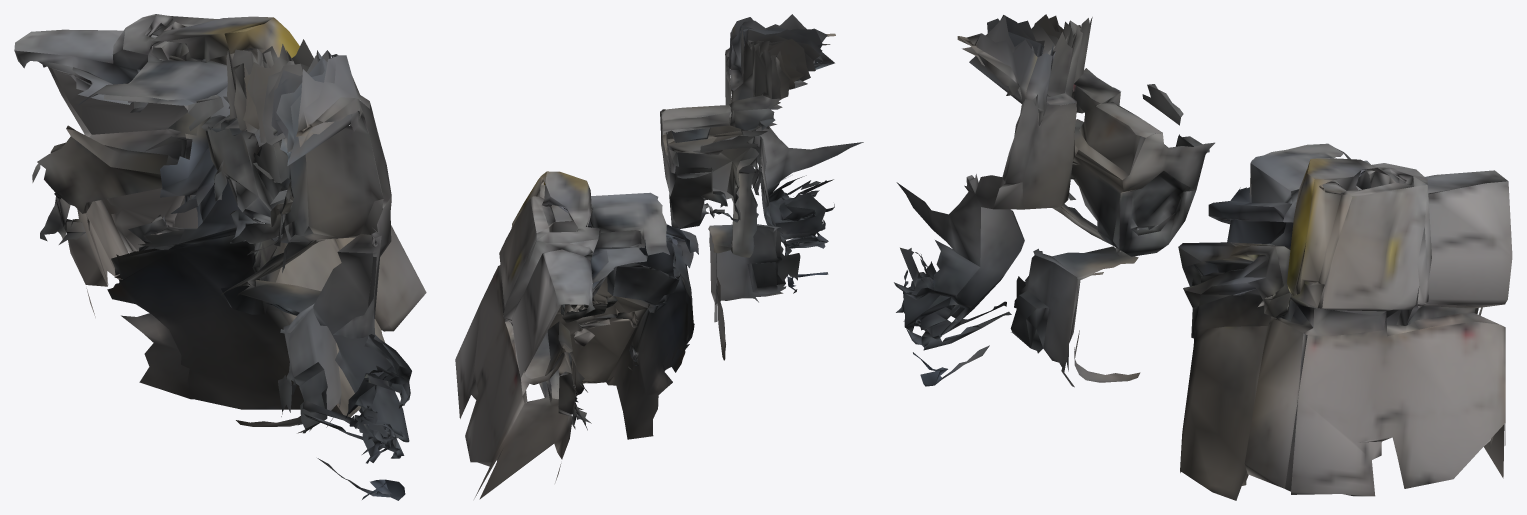
File: tankblock_arm_right_001_upper.glb
3 views of the same model, side by side, from view 1: azimuth 30°, elevation 25°; view 2: azimuth 150°, elevation 25°; view 3: azimuth 270°, elevation 25° (orthographic). The views are drawn at different scales.
Parts seen in each view (by area): view 1: W_arm_left_upper; view 2: W_arm_left_upper; view 3: W_arm_left_upper.
Part boxes in pixels (<box>): W_arm_left_upper: <box>14,14,426,500</box>; W_arm_left_upper: <box>455,14,863,499</box>; W_arm_left_upper: <box>894,14,1512,500</box>.
Size of the model in its own units: 0.6234 by 0.8691 by 1.19.
1 material, 1 textured.
